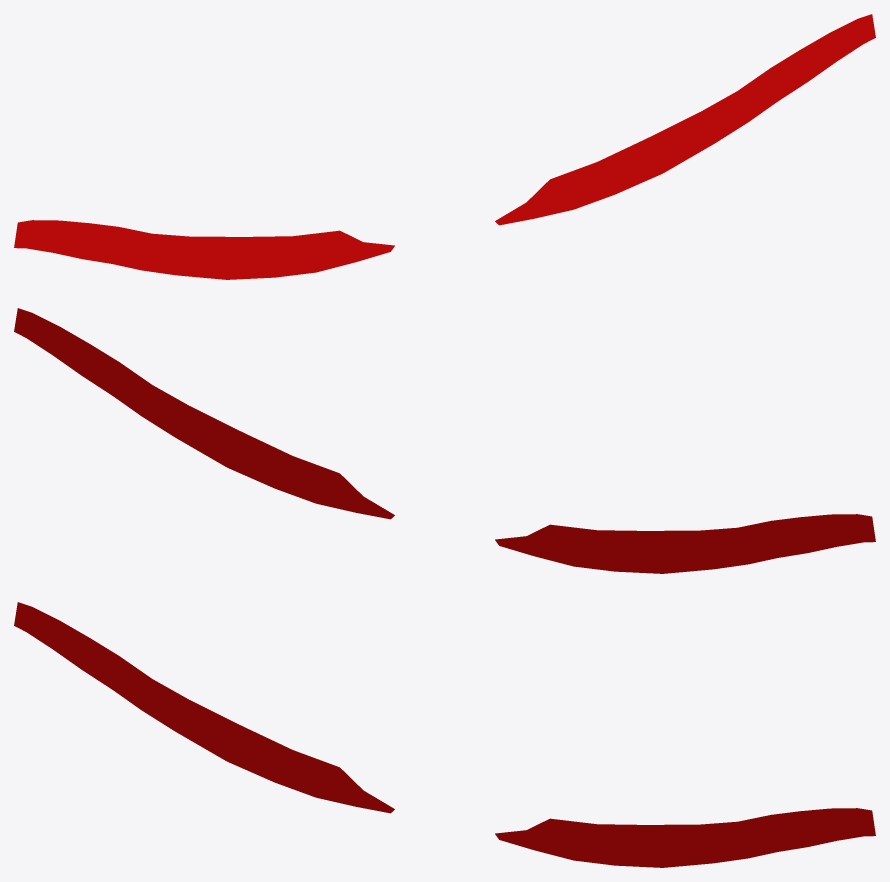
The model's file is frame90.fbx.
The picture shows the model from 3 angles, top to bottom: view 1: azimuth 30°, elevation 25°; view 2: azimuth 150°, elevation 25°; view 3: azimuth 330°, elevation 25°; orthographic projection.
Visible parts, largest first — view 1: MaterialLayer; view 2: MaterialLayer; view 3: MaterialLayer.
Boxes of the visible parts, bbox=[...] form: MaterialLayer: bbox=[14, 14, 875, 279]; MaterialLayer: bbox=[14, 308, 875, 573]; MaterialLayer: bbox=[14, 602, 875, 867].
Size of the model in its own units: 1332 by 182 by 0.000185.
